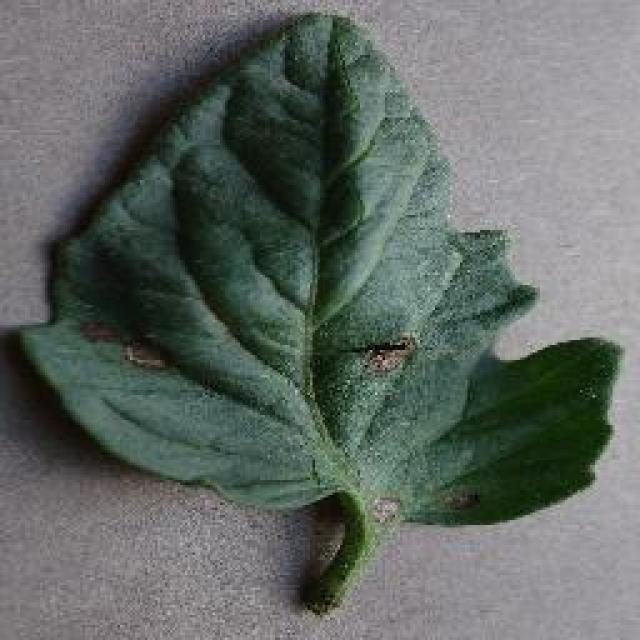leaf blight: (12, 7, 622, 595)
